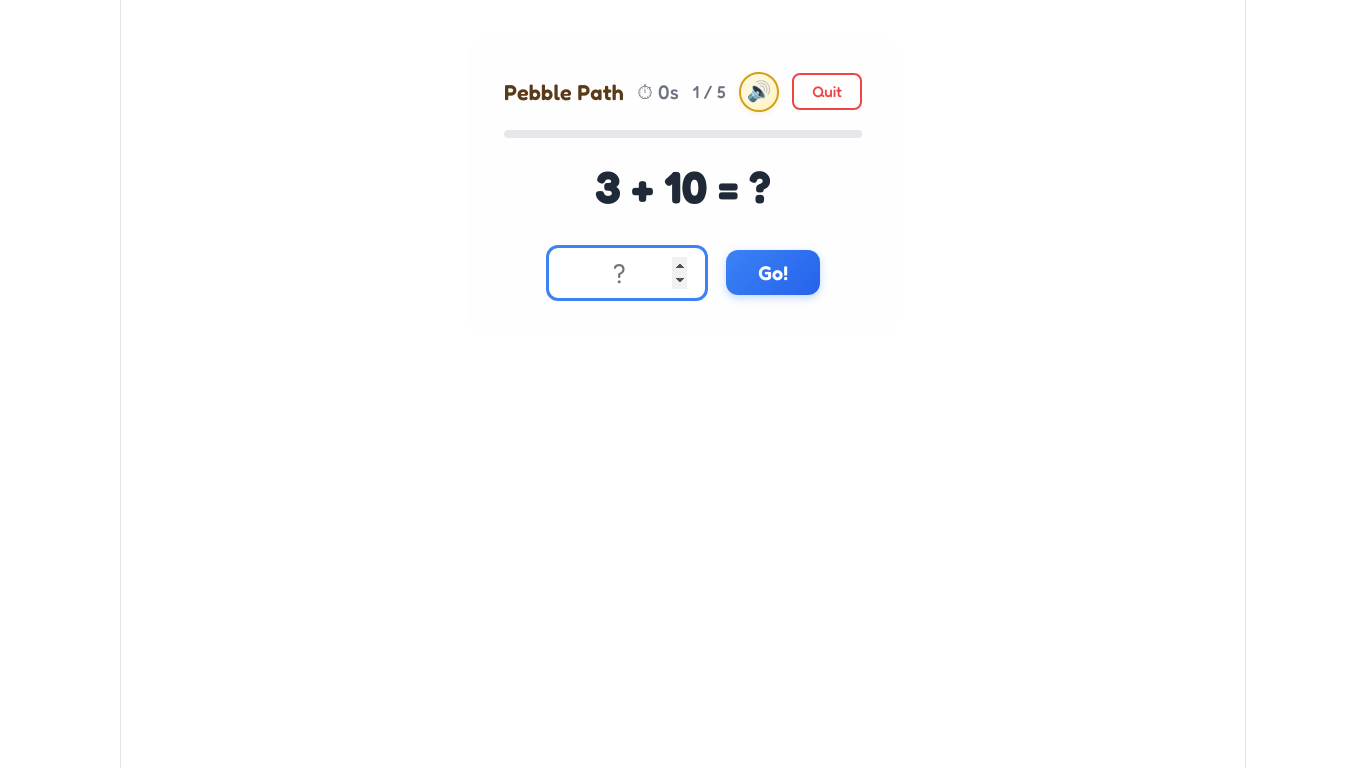
Scenario: QuizScreen feedback › shows data-feedback="incorrect" when answer is wrong
Note: Submit a definitely wrong answer
Step 1. Type "999" into the number field with placeholder "?" → (627, 273), box [546,245,708,301]
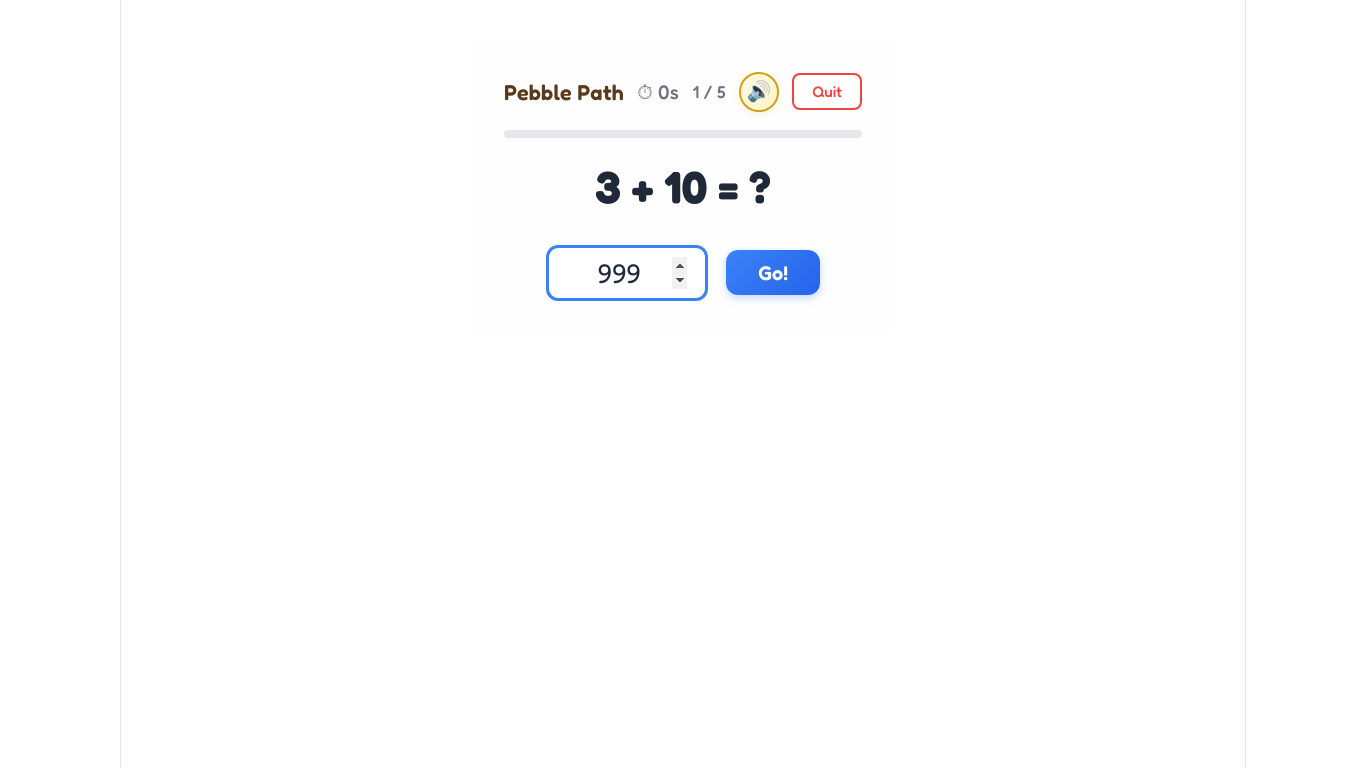
Step 2. Click the button "Go!" → (773, 273), box [726,250,820,296]
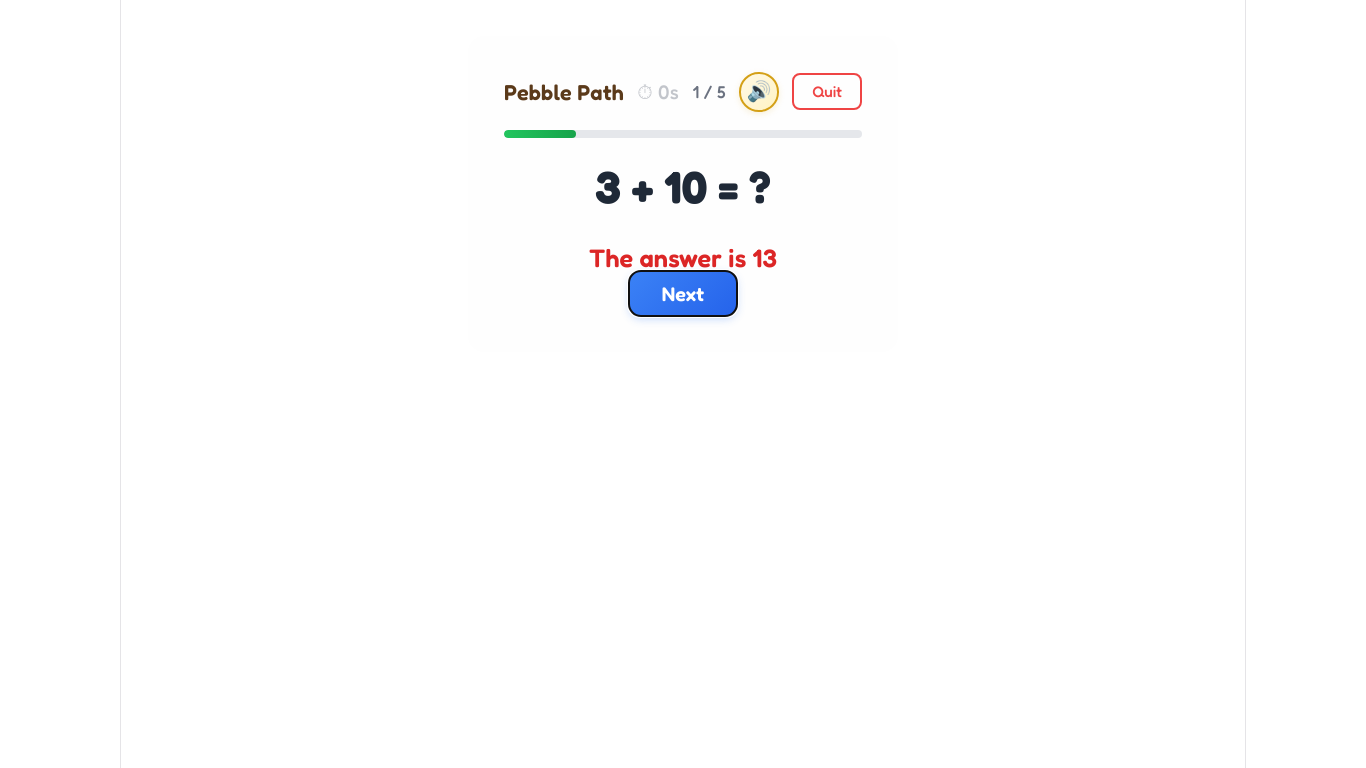
Expected: the element showing "The answer is 13 Next" is shown, [589,242,777,316]
